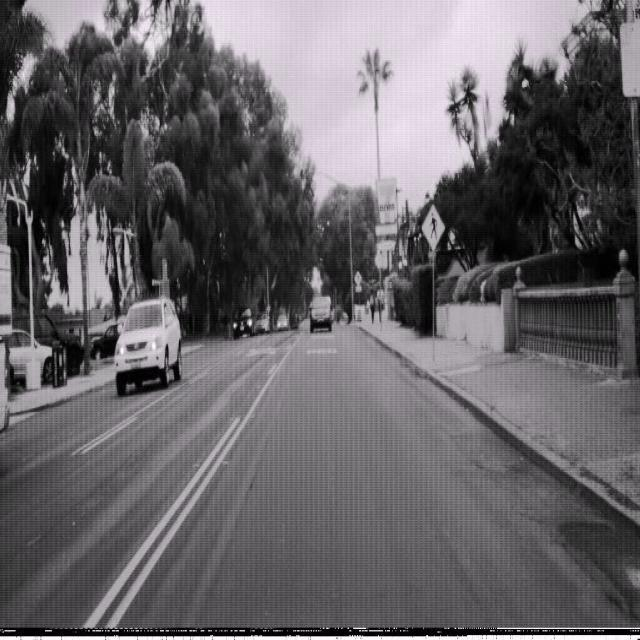pedestrianCrossing: (420, 202, 446, 253)
